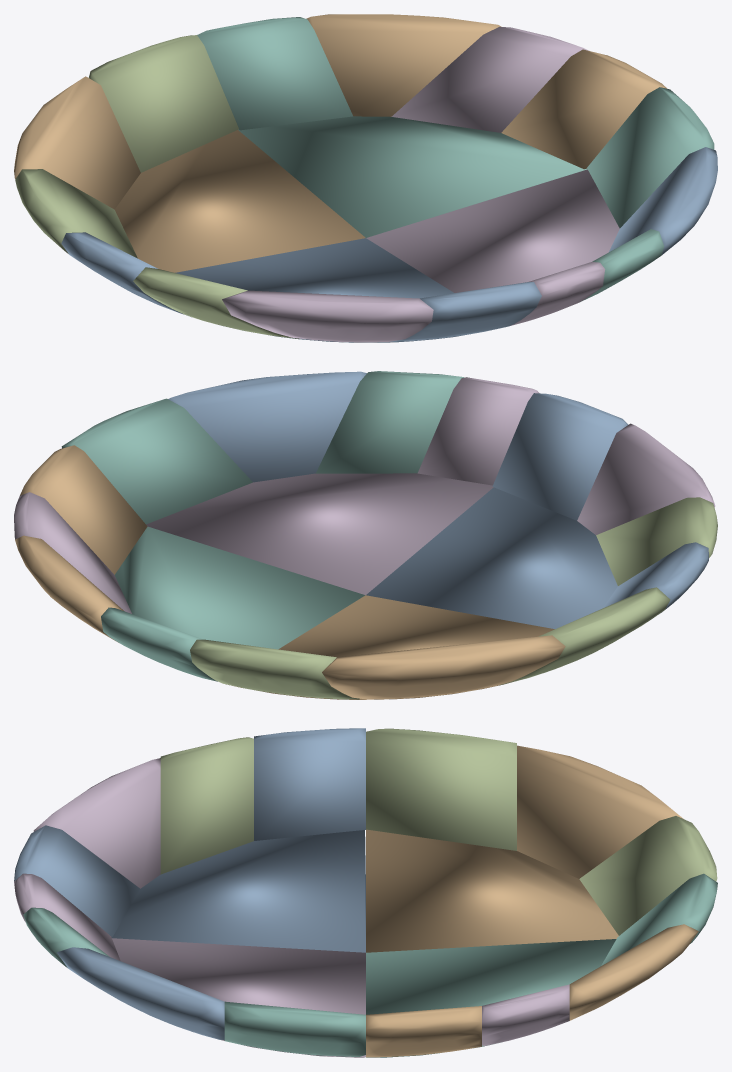
3 renders of one model, top to bottom at view 1: azimuth 30°, elevation 25°; view 2: azimuth 150°, elevation 25°; view 3: azimuth 270°, elevation 25°, orthographic.
Bounding box in the file's own units: 1.98 × 0.2725 × 1.98.
